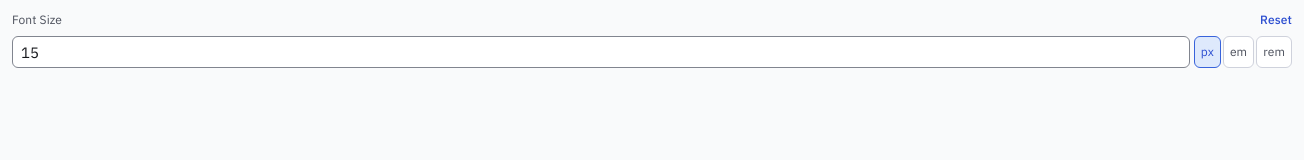
Test: Shift makes the arrow step ten times as far
Click the field labelled "Font Size" at x=601, y=52, box [12,36,1190,68]
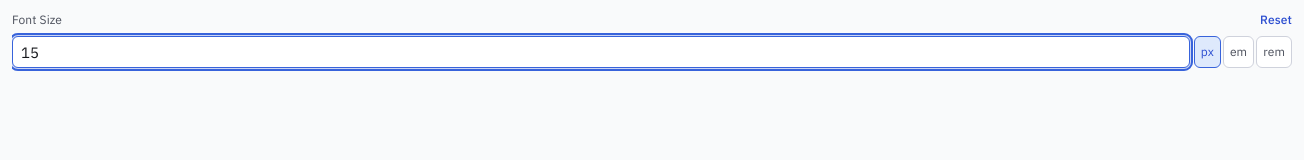
Type keys "{Shift>}{ArrowUp}{/Shift}"
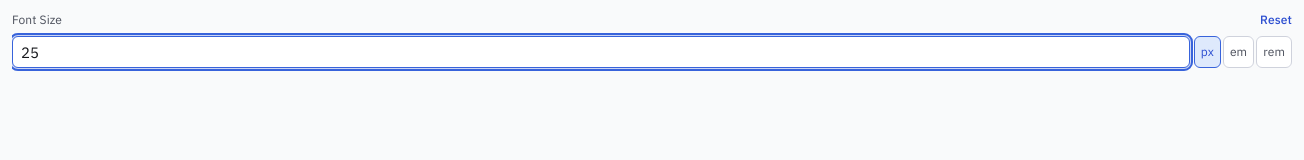
Result: the field labelled "Font Size" holds "25" at [12,36,1190,68]
Type keys "{Shift>}{ArrowDown}{/Shift}"
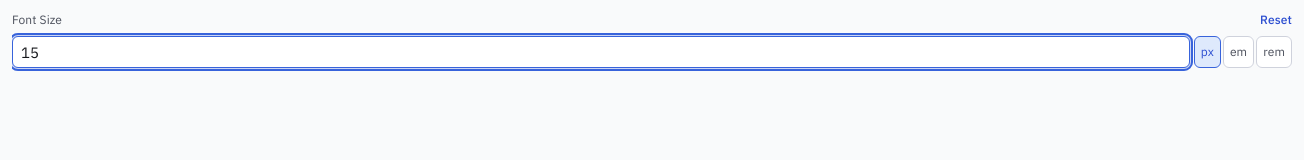
Result: the field labelled "Font Size" holds "15" at [12,36,1190,68]
